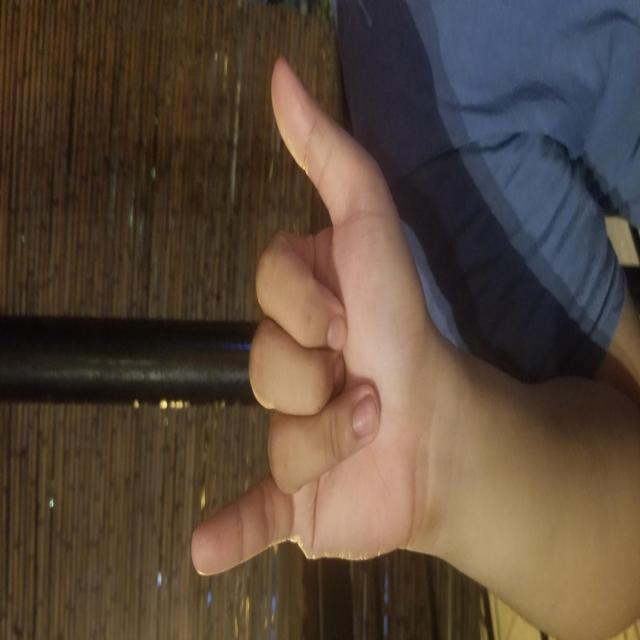Y: (182, 32, 426, 597)
